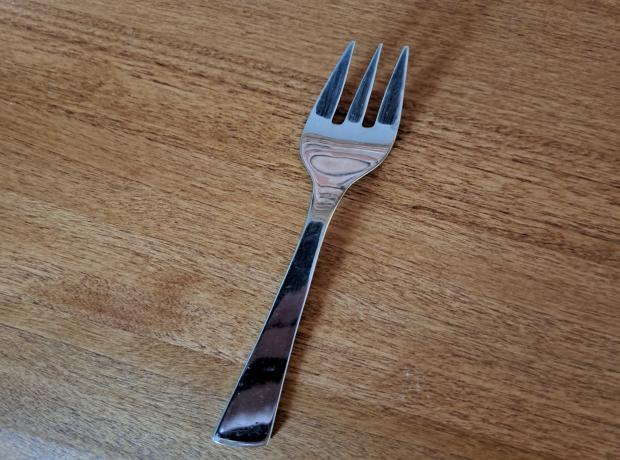metal: (211, 38, 418, 449)
